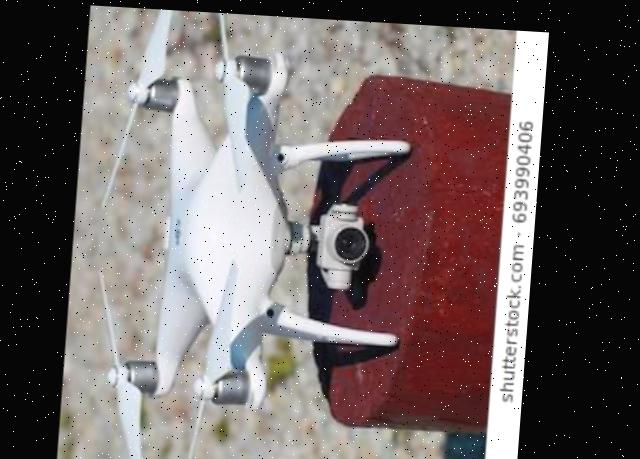drone: (63, 4, 438, 459)
